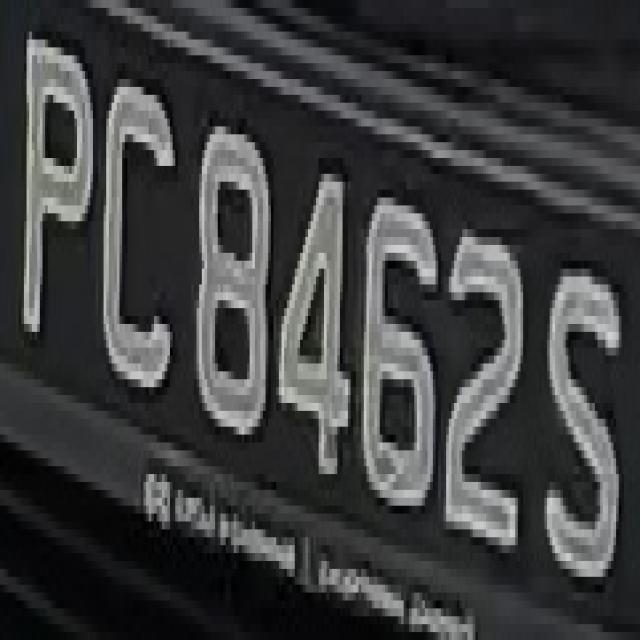2: (441, 189, 531, 576)
4: (271, 118, 361, 490)
6: (351, 135, 438, 538)
8: (194, 87, 273, 458)
C: (96, 39, 180, 434)
P: (21, 24, 96, 379)
S: (539, 245, 629, 608)
